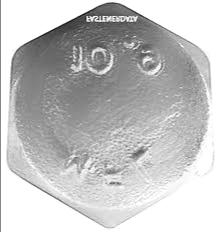hexagonal: (6, 3, 210, 228)
